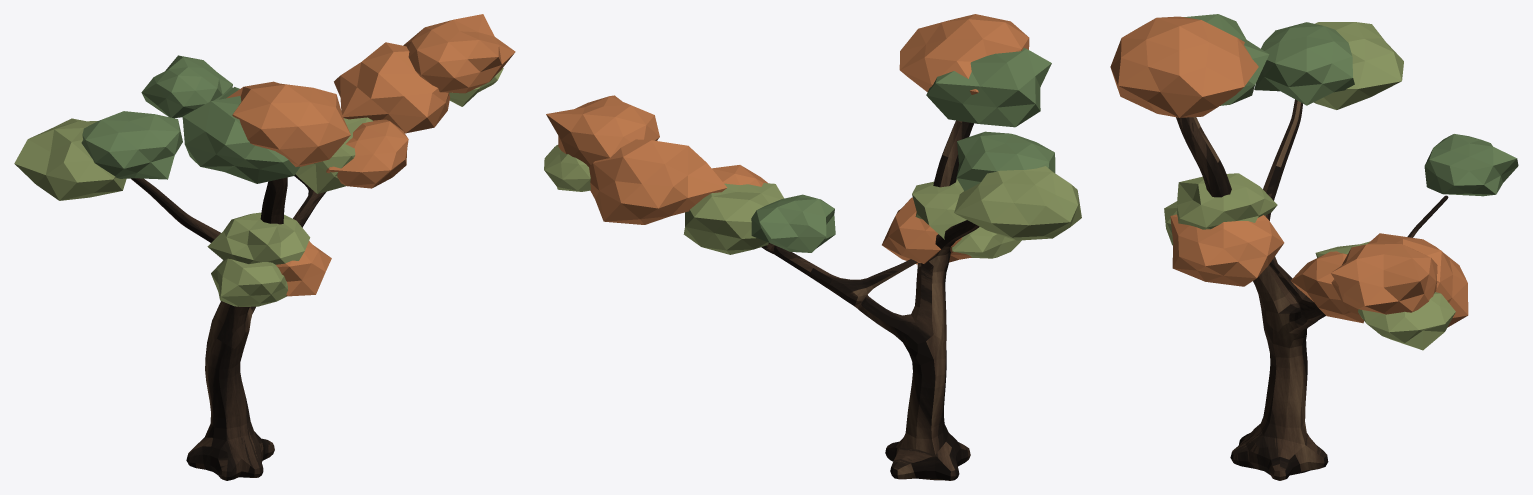
The model's file is tree_dying_1.glb.
3 renders of one model, left to right at view 1: azimuth 30°, elevation 25°; view 2: azimuth 150°, elevation 25°; view 3: azimuth 270°, elevation 25°, orthographic. The views are drawn at different scales.
Parts seen in each view (by area): view 1: tree_dying_11; view 2: tree_dying_11; view 3: tree_dying_11.
Part boxes in pixels (x1,y1,x2,y2): tree_dying_11: (14,14,515,480); tree_dying_11: (544,14,1081,480); tree_dying_11: (1110,14,1518,480).
Size of the model in its own units: 8.43 by 6.65 by 5.56.
Materials: 4 (1 with a texture image).
